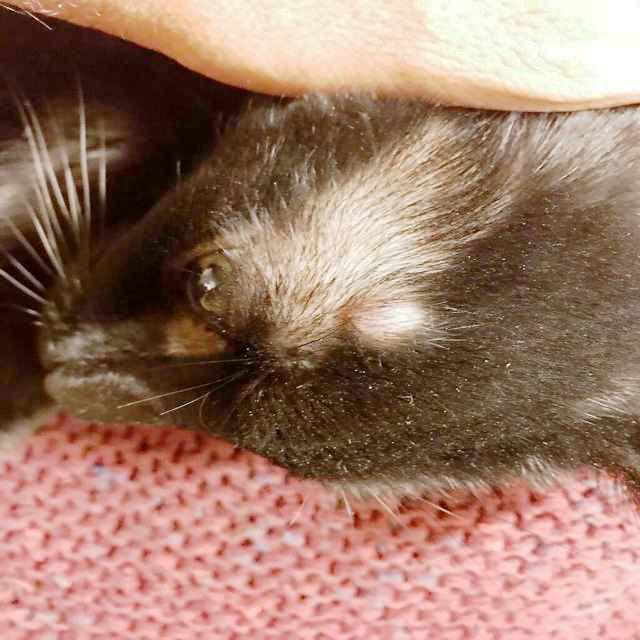lump_and_bump: (358, 291, 422, 343)
